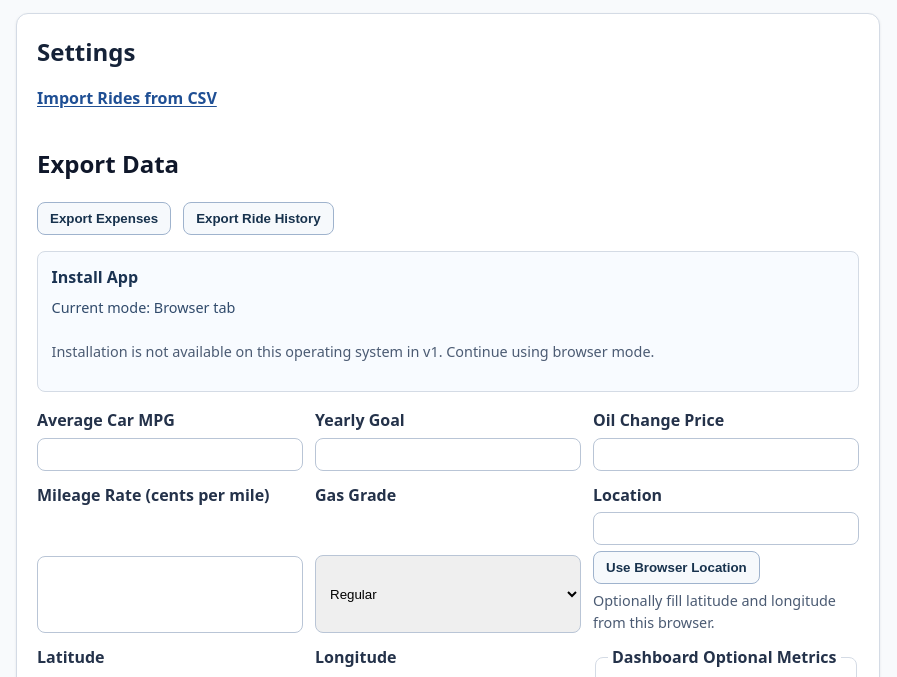
SettingsPage › fills latitude and longitude from the browser location action
The width and height of the screenshot is (897, 677).
Click the button "Use Browser Location".
click(676, 567)  # box [593, 551, 760, 584]
(page scrolled)
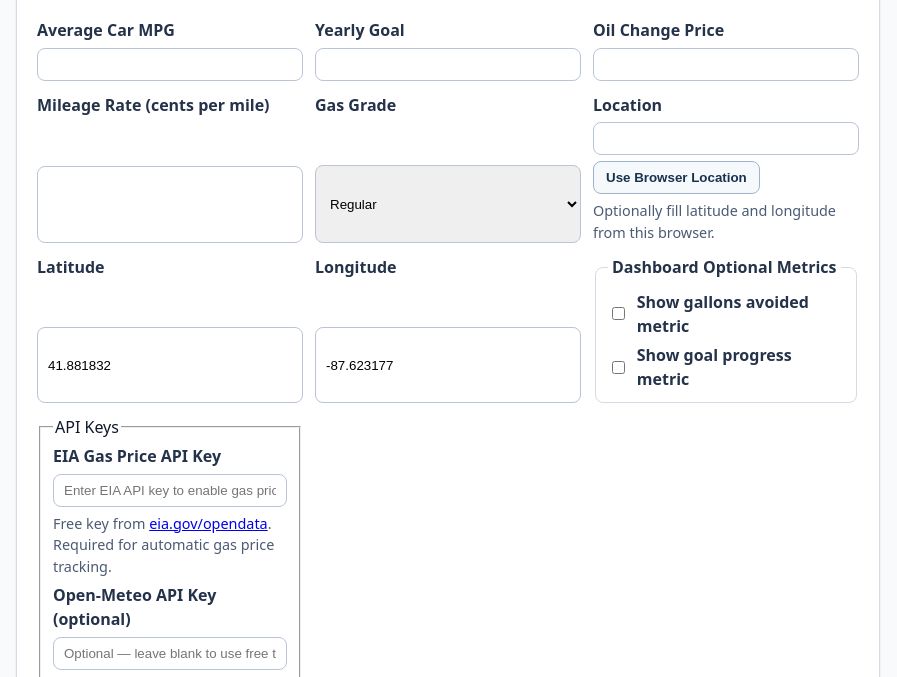
Check: the number field labelled "Latitude" holds "41.881832", box [37, 327, 303, 403]
Check: the number field labelled "Longitude" holds "-87.623177", box [315, 327, 581, 403]
